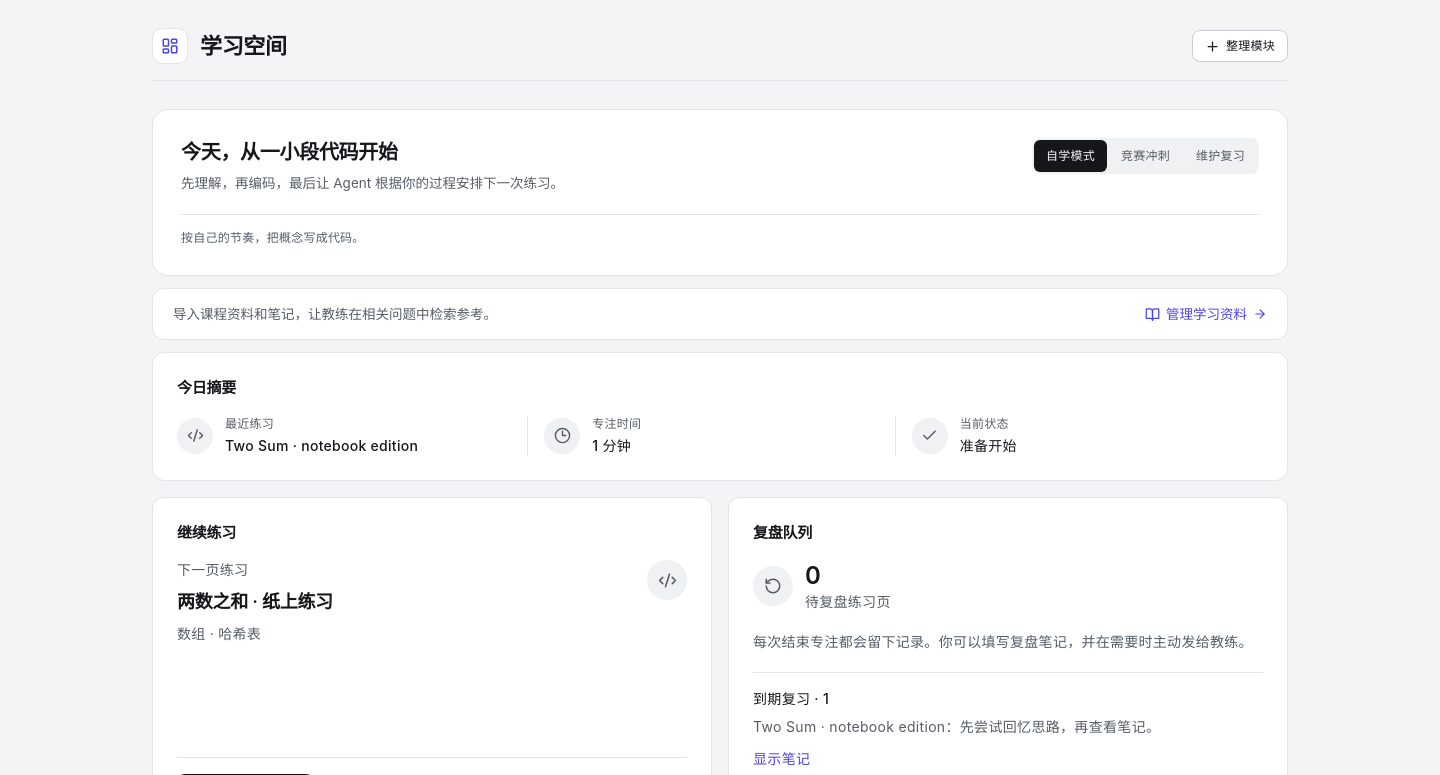
it: asks the learner to recall a due note before revealing it and scheduling the next review
Expected: the text "双指针先检查边界" is not shown
Click the button "显示笔记".
click(782, 759)  # box [753,749,810,769]
(page scrolled)
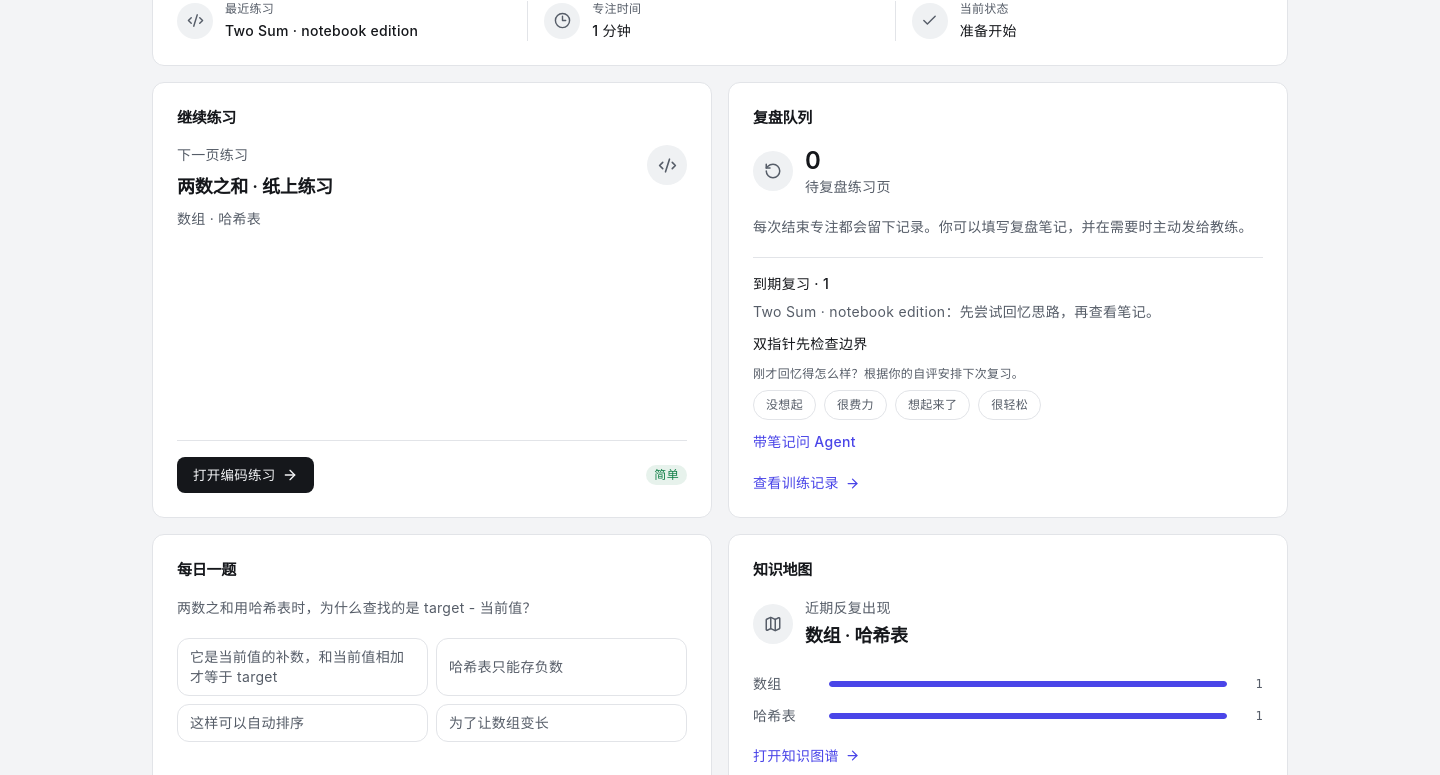
Expected: the text "双指针先检查边界" is shown, [753,335,868,352]
Click the button "想起来了".
click(933, 405)  # box [895,390,970,420]
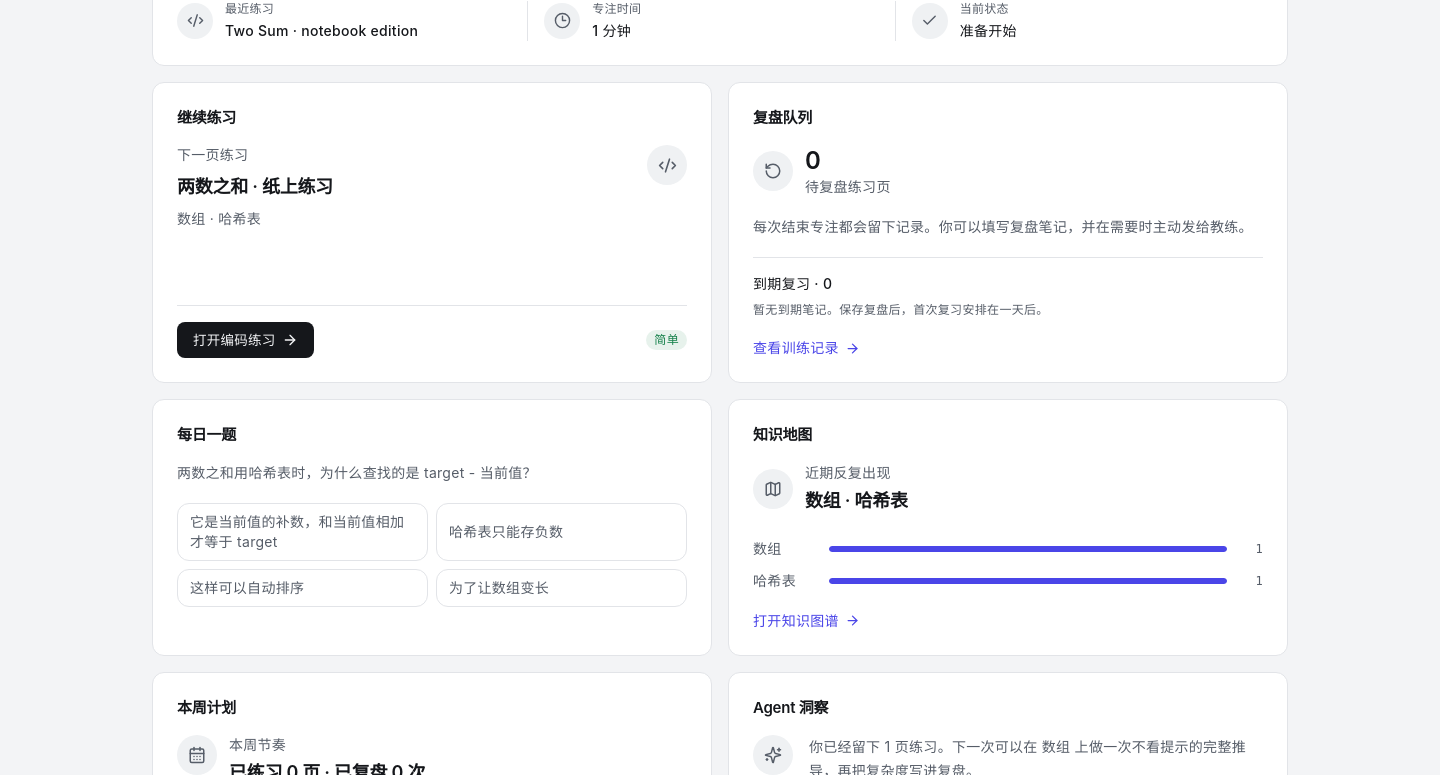
Expected: the text "双指针先检查边界" is gone
